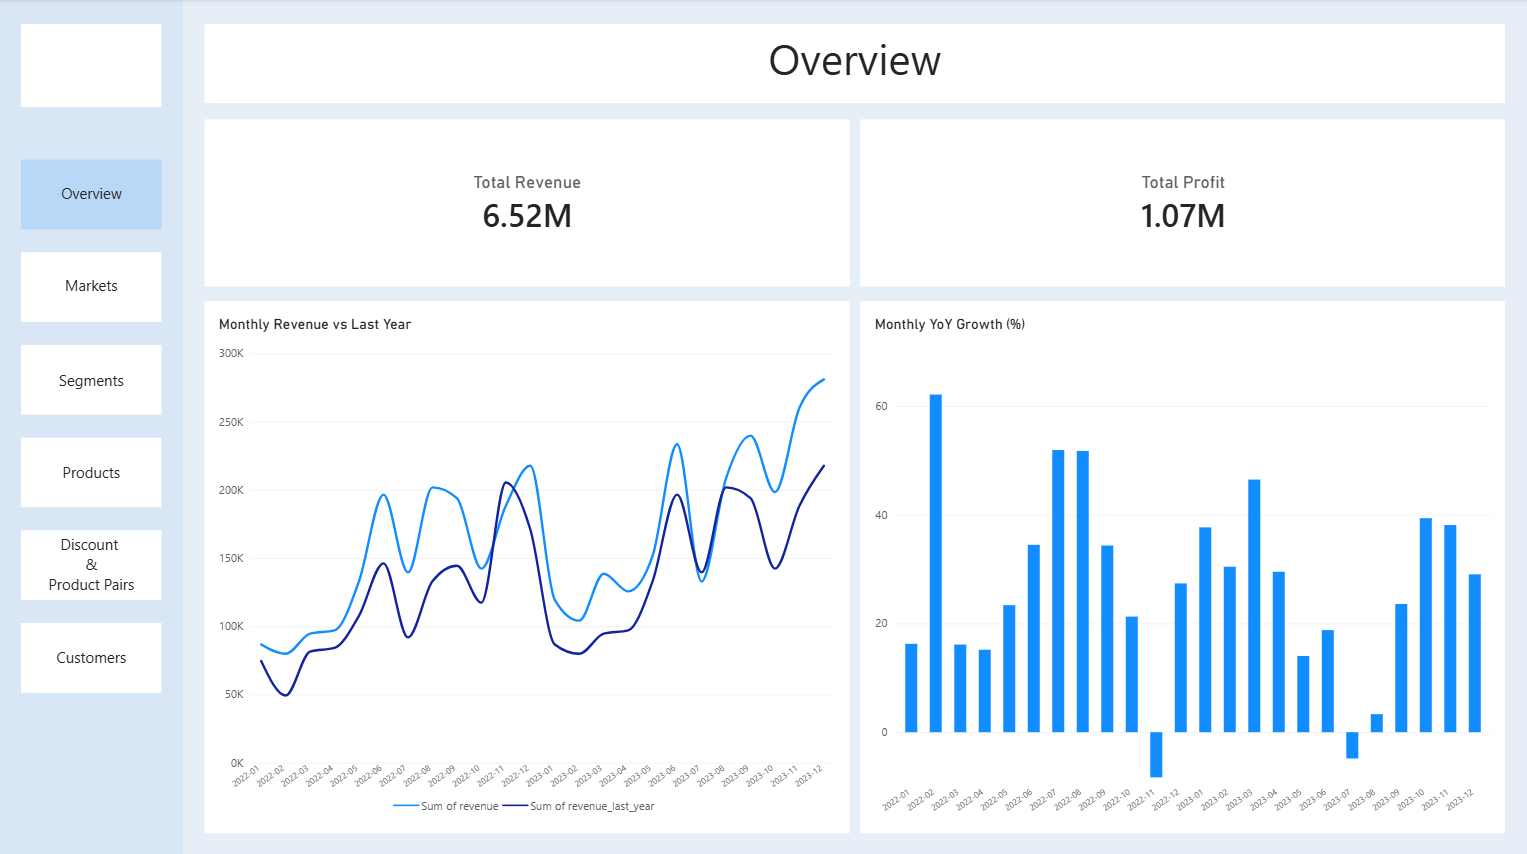

Layout of this report page (visuals, bound fields, positions):
{"tool":"powerbi","page":{"name":"Overview","canvas":[1920,1080],"ordinal":0},"visuals":[{"type":"lineChart","title":"Monthly Revenue vs Last Year","fields":{"Category":["q11_monthly_revenue_yoy.year_month"],"Y":["Sum(q11_monthly_revenue_yoy.revenue)","Sum(q11_monthly_revenue_yoy.revenue_last_year)"]},"box":[258.6,382.9,804.3,660],"z":0},{"type":"clusteredColumnChart","title":"Monthly YoY Growth (%)","fields":{"Category":["q11_monthly_revenue_yoy.year_month"],"Y":["Sum(q11_monthly_revenue_yoy.yoy_growth_pct)"]},"box":[1082.9,382.9,805.7,660],"z":1000},{"type":"cardVisual","fields":{"Data":["Sum(q01_top_revenue_and_profit.total_revenue)"]},"box":[258.6,152.9,805.7,207.1],"z":2000},{"type":"cardVisual","fields":{"Data":["Sum(q01_top_revenue_and_profit.total_profit)"]},"box":[1082.9,152.9,805.7,207.1],"z":3000},{"type":"textbox","box":[258.6,37.1,1630,90],"z":4000},{"type":"textbox","box":[27.1,231.4,174.3,55.7],"z":5000},{"type":"textbox","box":[27.1,347.1,174.3,57.1],"z":6000},{"type":"textbox","box":[27.1,465.7,174.3,55.7],"z":7000},{"type":"textbox","box":[27.1,581.4,174.3,55.7],"z":8000},{"type":"textbox","box":[27.1,671.4,174.3,81.4],"z":9000},{"type":"textbox","box":[27.1,814.3,174.3,55.7],"z":10000},{"type":"actionButton","box":[27.1,231.4,174.3,55.7],"z":11000},{"type":"actionButton","box":[27.1,348.6,174.3,55.7],"z":12000},{"type":"actionButton","box":[27.1,465.7,174.3,55.7],"z":13000},{"type":"actionButton","box":[27.1,581.4,174.3,55.7],"z":14000},{"type":"actionButton","box":[27.1,671.4,174.3,81.4],"z":15000},{"type":"actionButton","box":[27.1,814.3,174.3,55.7],"z":16000}]}

Visuals, with their boxes in screenshot pixels (x1, y1, x2, y2), scaled from the page's 1920x1080 canvas onto the 1527x854 screenshot:
"Monthly Revenue vs Last Year" lineChart: bbox(206, 303, 845, 825)
"Monthly YoY Growth (%)" clusteredColumnChart: bbox(861, 303, 1502, 825)
cardVisual - Sum(q01_top_revenue_and_profit.total_revenue): bbox(206, 121, 846, 285)
cardVisual - Sum(q01_top_revenue_and_profit.total_profit): bbox(861, 121, 1502, 285)
textbox: bbox(206, 29, 1502, 101)
textbox: bbox(22, 183, 160, 227)
textbox: bbox(22, 274, 160, 320)
textbox: bbox(22, 368, 160, 412)
textbox: bbox(22, 460, 160, 504)
textbox: bbox(22, 531, 160, 595)
textbox: bbox(22, 644, 160, 688)
actionButton: bbox(22, 183, 160, 227)
actionButton: bbox(22, 276, 160, 320)
actionButton: bbox(22, 368, 160, 412)
actionButton: bbox(22, 460, 160, 504)
actionButton: bbox(22, 531, 160, 595)
actionButton: bbox(22, 644, 160, 688)
